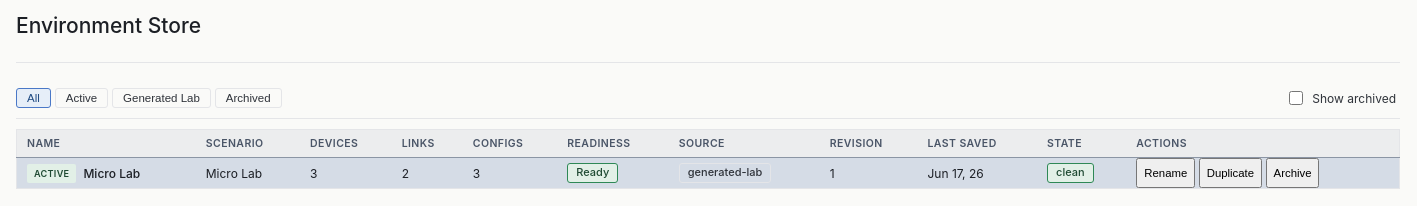
EnvironmentStorePanel › clicking 'Archived' pill shows archived envs without the toggle
The image size is (1417, 206).
Click the button "Archive" at (1293, 173), box x1=1266 y1=158 x2=1320 y2=188
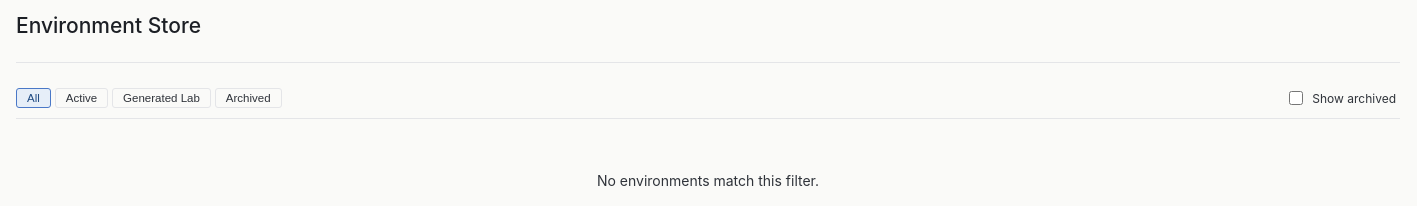
Click the button with test id "store-filter-archived" at (248, 98), box x1=215 y1=88 x2=282 y2=108
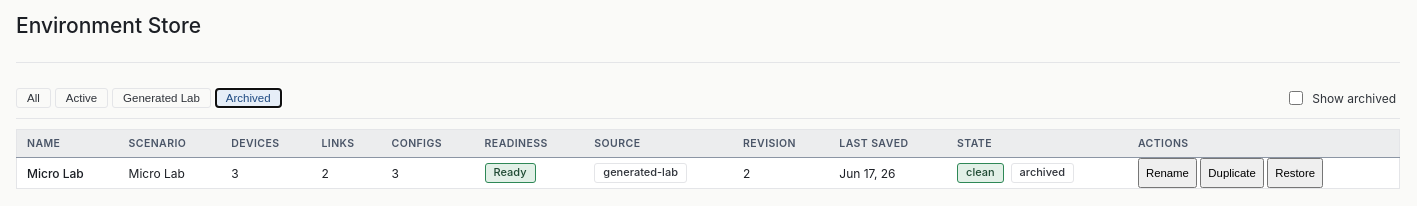
Expected: the text "Restore" is shown, x1=1275 y1=167 x2=1315 y2=179
Expected: the text "archived" is shown, x1=1011 y1=164 x2=1074 y2=183
